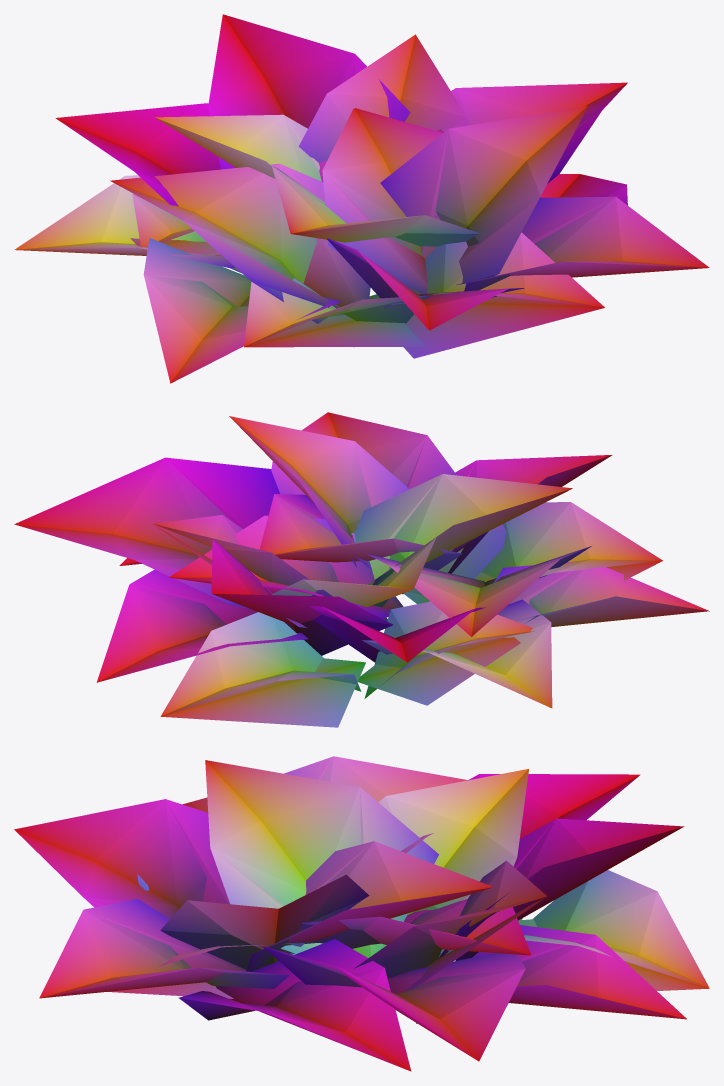
The model's file is broadfern_bunch_b.dae.
3 views of the same model, one above another, from view 1: azimuth 30°, elevation 25°; view 2: azimuth 150°, elevation 25°; view 3: azimuth 270°, elevation 25° (orthographic). The views are drawn at different scales.
Parts seen in each view (by area): view 1: broadfern64, broadfern8; view 2: broadfern64, broadfern8; view 3: broadfern64, broadfern8.
Boxes of the visible parts, x1=… form: broadfern64: x1=14, y1=14, x2=709, y2=383; broadfern8: x1=16, y1=54, x2=706, y2=358; broadfern64: x1=14, y1=412, x2=708, y2=716; broadfern8: x1=121, y1=417, x2=709, y2=727; broadfern64: x1=14, y1=756, x2=709, y2=1071; broadfern8: x1=41, y1=756, x2=708, y2=1069.
Size of the model in its own units: 3.22 by 3.07 by 0.8576.
